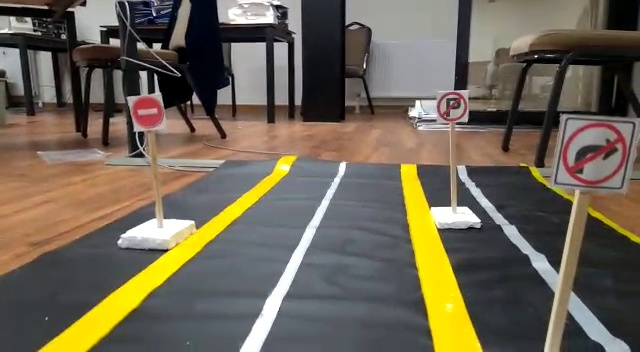girisi_olmayan_yol: (130, 94, 167, 129)
park_yapilmaz: (438, 89, 467, 124)
saga_donulmez: (561, 120, 626, 185)
